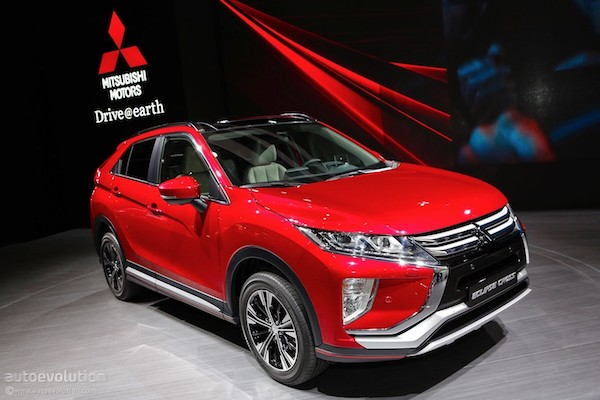pickup: (85, 111, 533, 387)
